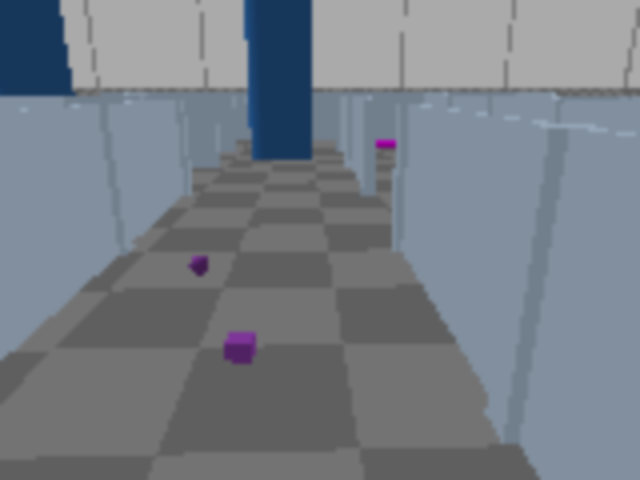puck: (223, 331, 257, 363), (186, 252, 212, 278)
